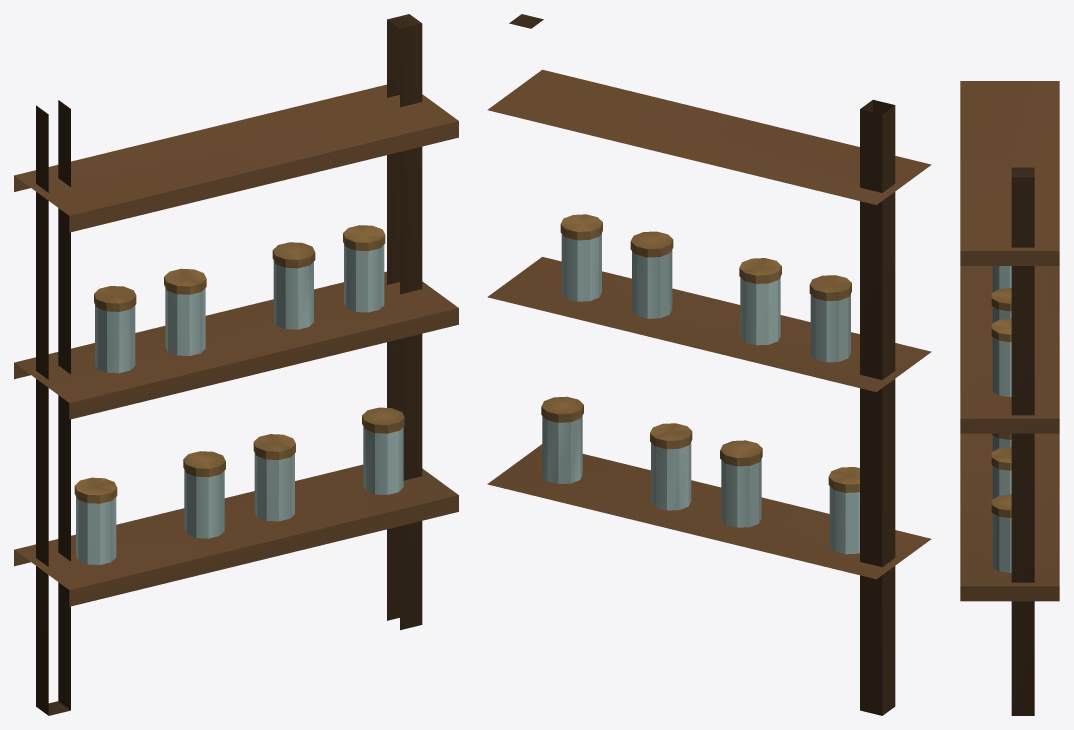
File: cold_store_jar_shelf.glb
3 renders of one model, left to right at view 1: azimuth 30°, elevation 25°; view 2: azimuth 150°, elevation 25°; view 3: azimuth 270°, elevation 25°, orthographic. The views are drawn at different scales.
Parts seen in each view (by area): view 1: ColdStoreJarShelf_Mesh; view 2: ColdStoreJarShelf_Mesh; view 3: ColdStoreJarShelf_Mesh.
Part boxes in pixels (x1,y1,x2,y2): ColdStoreJarShelf_Mesh: (14,14,458,715); ColdStoreJarShelf_Mesh: (487,14,931,715); ColdStoreJarShelf_Mesh: (960,81,1059,715).
Size of the model in its own units: 1.22 by 1.8 by 0.3.
